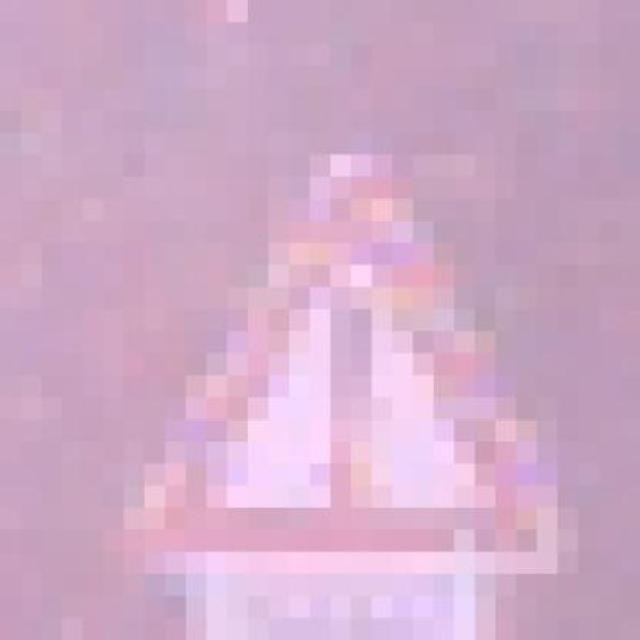Attention Please-: (82, 132, 620, 618)
